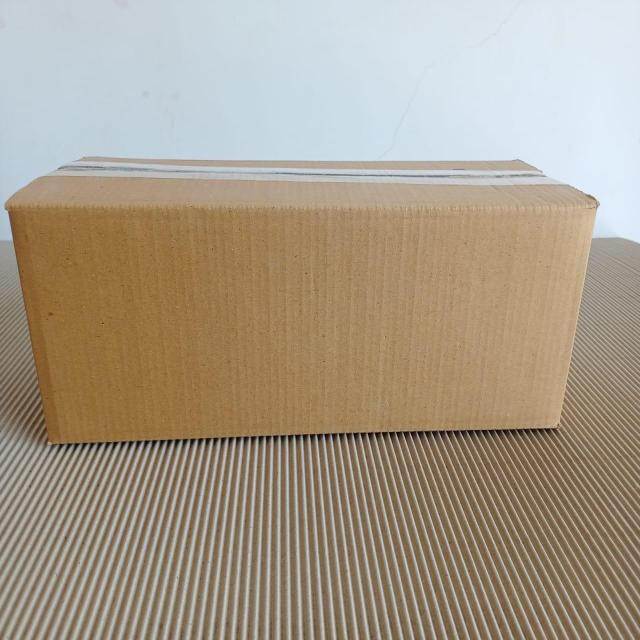cardboard: (5, 149, 599, 447)
